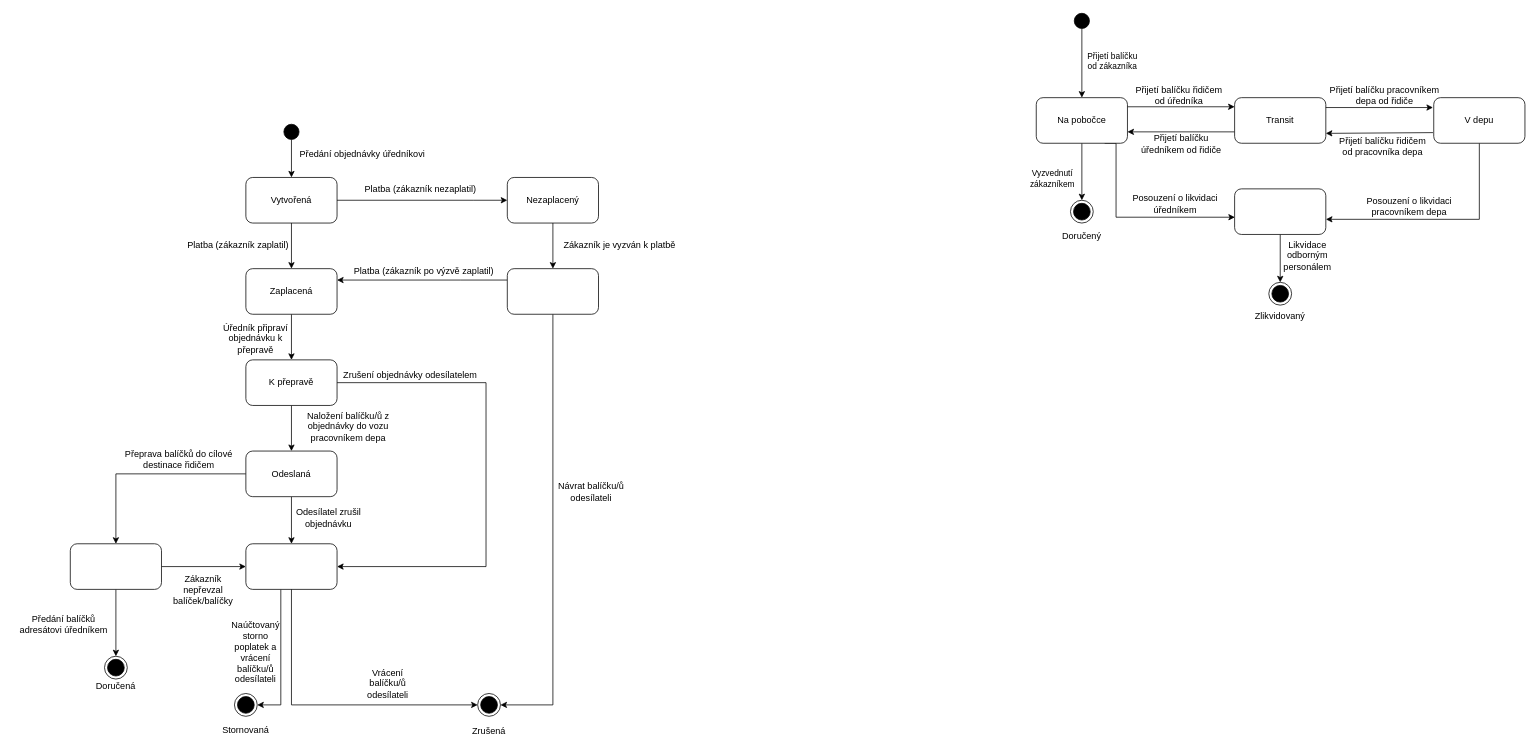
This 1538x756 diagram has some shape labels left out. The shapes that lost their labels are listed below. From the top down, each one's centre as x and y in pixels, then its label:
point (1280, 211): K likvidaci
point (552, 291): Opětovaná výzva k platbě
point (116, 566): K vyzvednutí
point (291, 566): K vrácení
